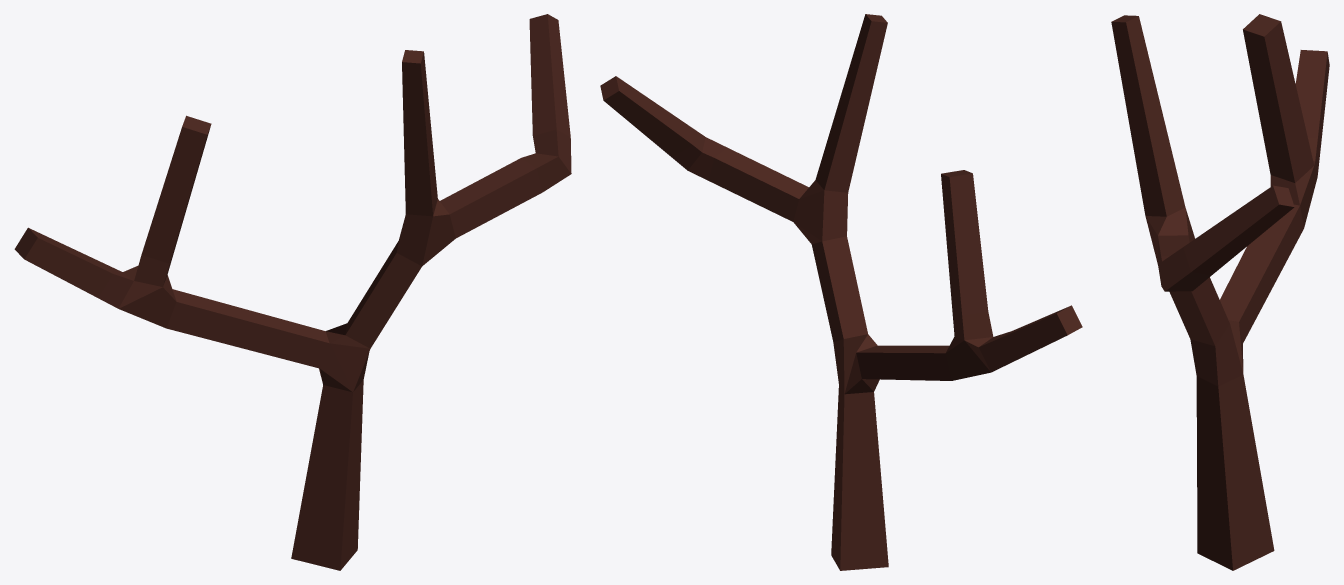
Rendered from prealbero.glb.
3 renders of one model, left to right at view 1: azimuth 30°, elevation 25°; view 2: azimuth 150°, elevation 25°; view 3: azimuth 270°, elevation 25°, orthographic. The views are drawn at different scales.
Visible parts, largest first — view 1: fase1 albero spawn; view 2: fase1 albero spawn; view 3: fase1 albero spawn.
Boxes of the visible parts, bbox=[...] form: fase1 albero spawn: bbox=[14, 14, 571, 570]; fase1 albero spawn: bbox=[600, 14, 1082, 570]; fase1 albero spawn: bbox=[1111, 14, 1329, 570].
Size of the model in its own units: 0.5538 by 0.5392 by 0.1919.
